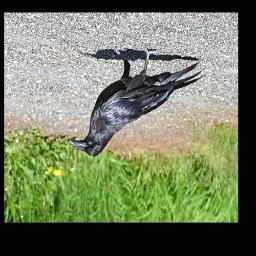Crow: (69, 43, 208, 157)
